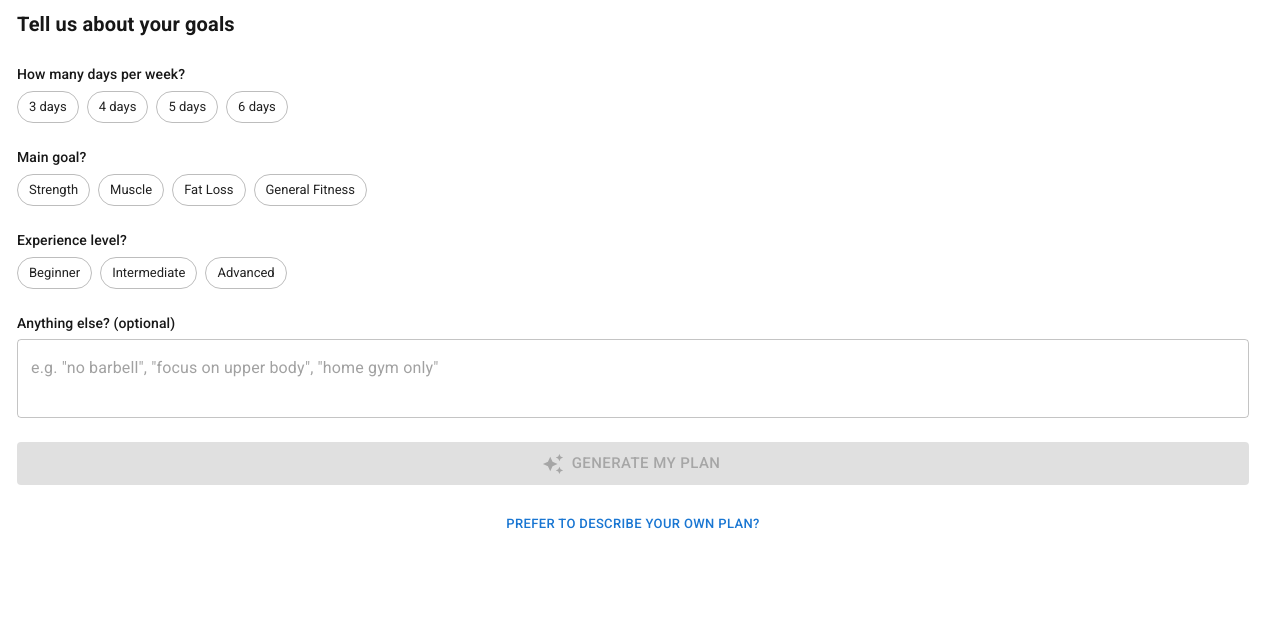
Test: AiFormScreen — errors › shows a network error message when fetch throws
Click the button "4 days". click: (118, 107)
box: [87,91,148,123]
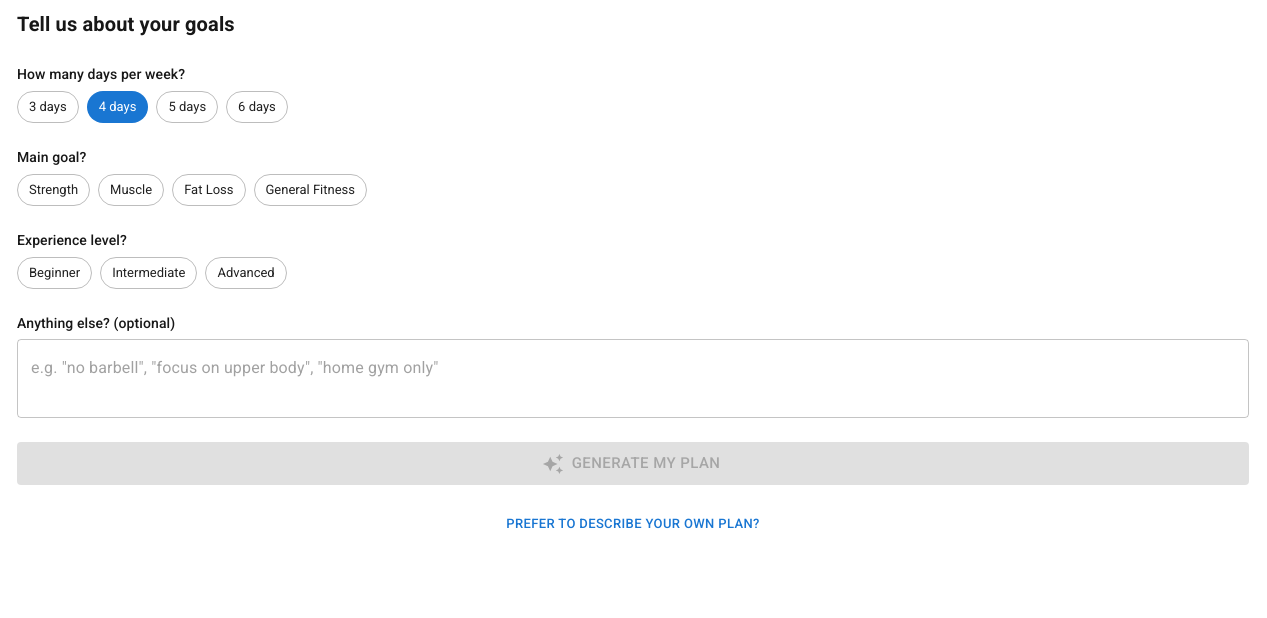
Click the button "Muscle". click: (131, 190)
box: [98,174,164,206]
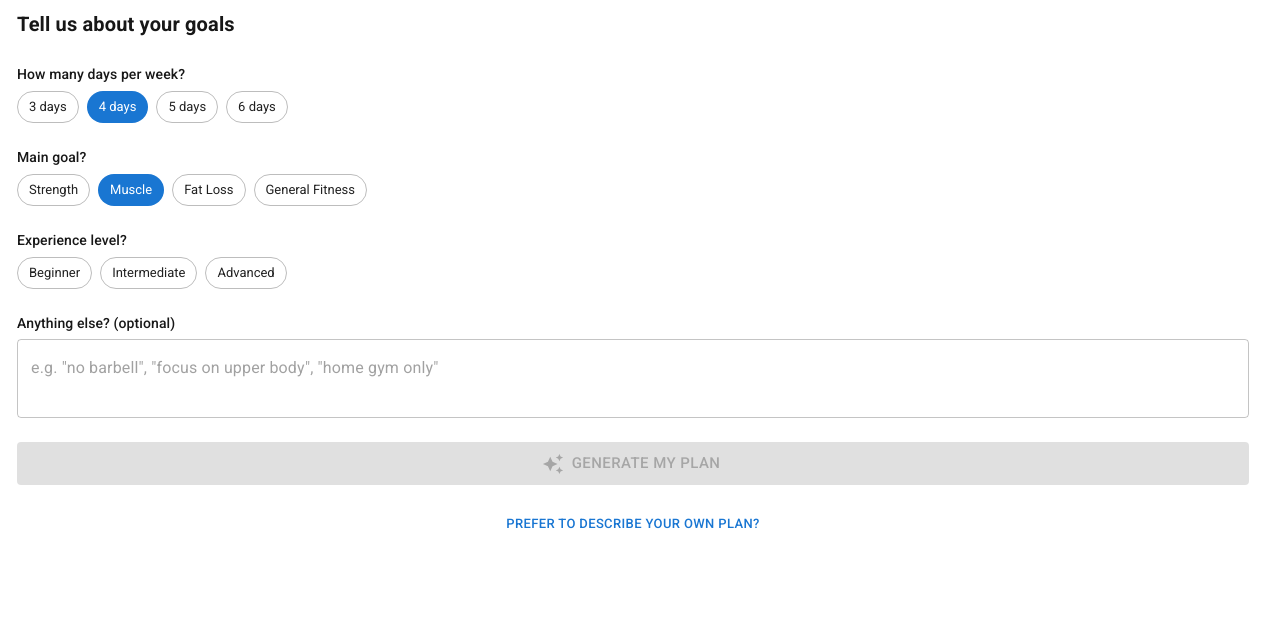
Click the button "Intermediate". click: (149, 273)
box: [100,257,197,289]
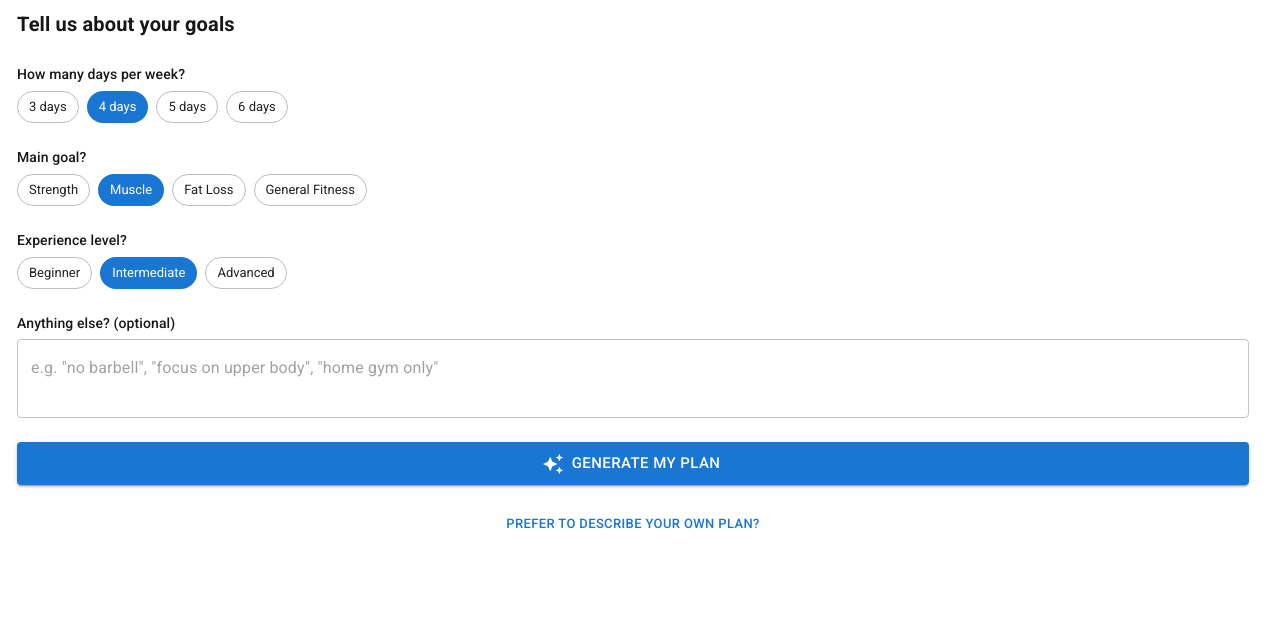
Click the button "Generate my plan". click: (633, 464)
box: [17,442,1249,485]
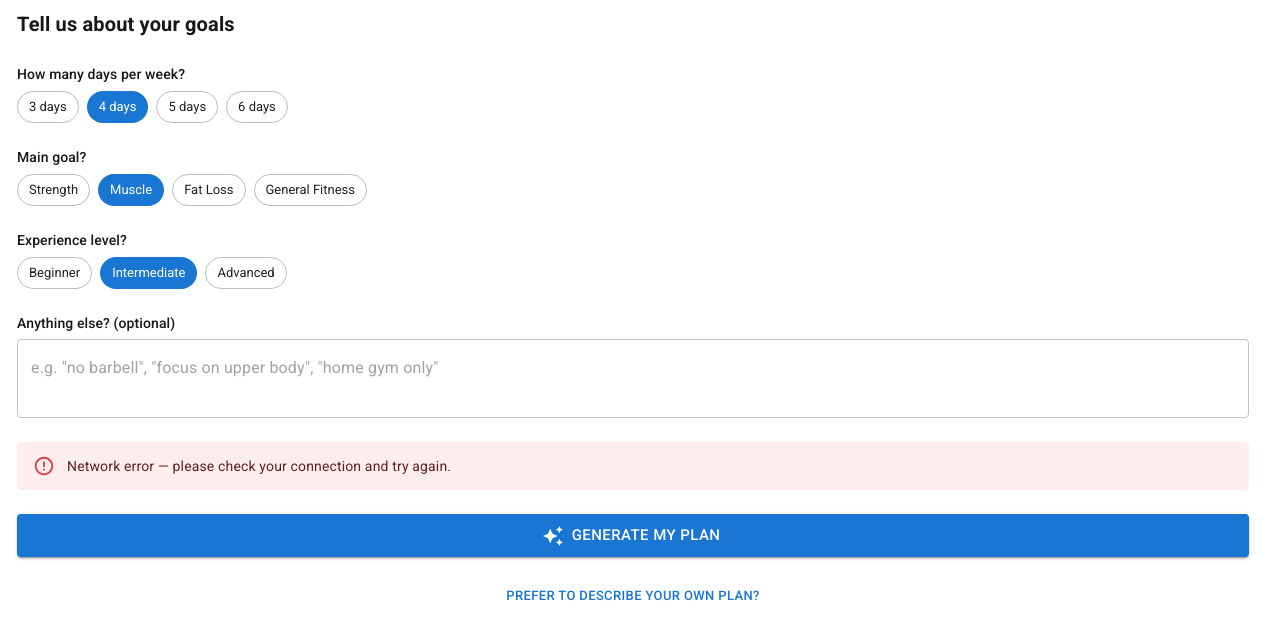
Now the message shows "Network error", box [67,458,451,474]
